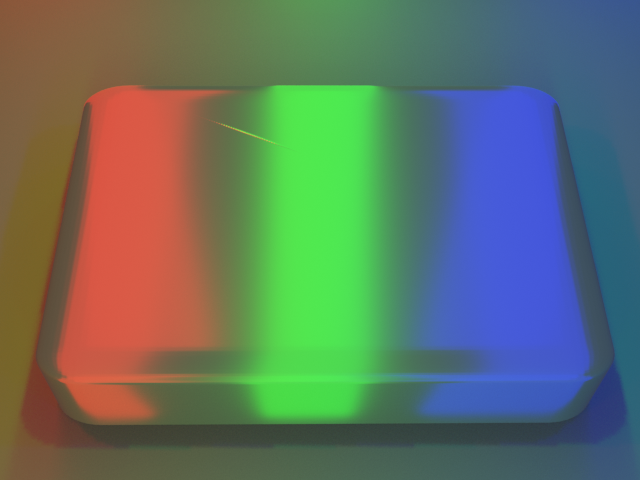scratch: (57, 67, 428, 226)
